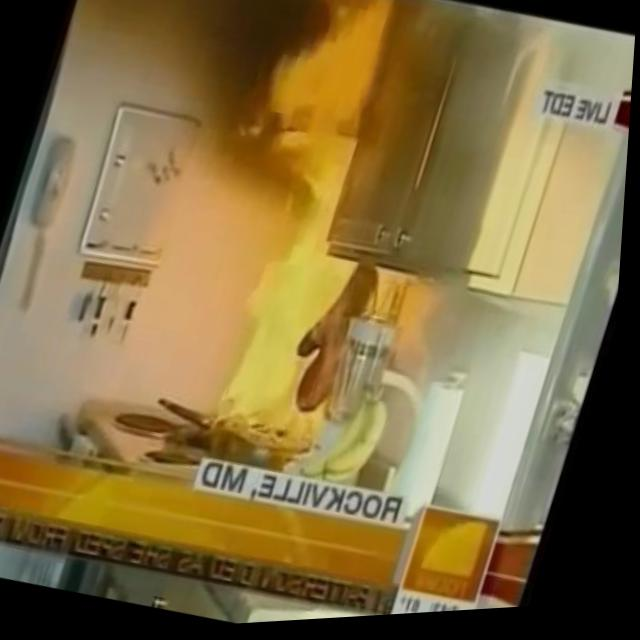fire: (206, 121, 404, 460)
